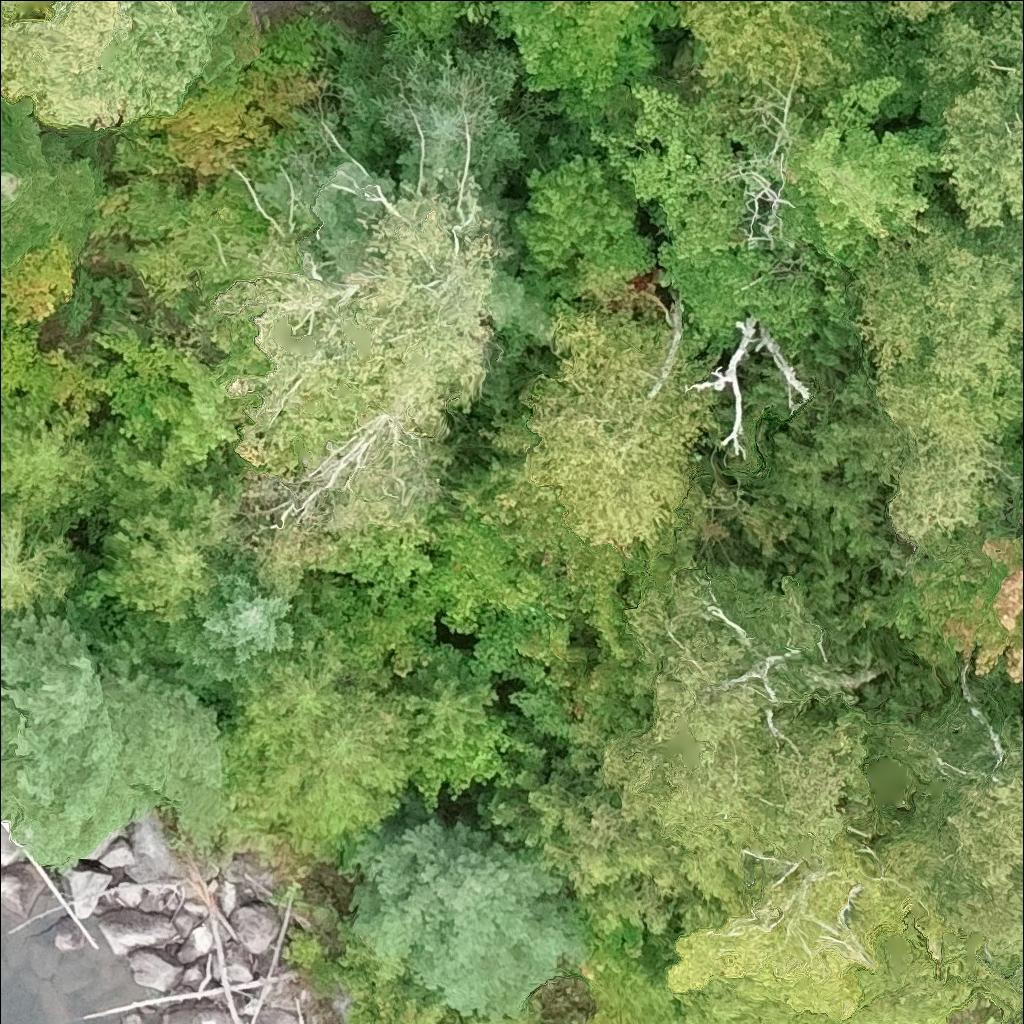crown: (214, 191, 497, 588), (594, 569, 875, 920), (556, 69, 859, 354), (667, 841, 995, 1023), (846, 208, 1023, 542), (0, 600, 225, 862), (340, 799, 587, 1023), (521, 297, 718, 561), (312, 509, 588, 692), (218, 619, 407, 865), (877, 687, 1023, 974), (779, 73, 947, 273), (90, 172, 303, 322), (332, 35, 557, 177), (371, 0, 680, 97), (0, 0, 213, 131), (76, 476, 258, 627), (871, 514, 1023, 681), (915, 3, 1023, 232), (87, 331, 263, 457), (285, 925, 496, 1023), (518, 155, 657, 300), (168, 554, 323, 683), (673, 0, 891, 89), (0, 95, 107, 266), (141, 75, 316, 178), (0, 405, 107, 532), (0, 505, 84, 632), (336, 920, 408, 1019), (885, 0, 969, 20), (505, 996, 542, 1023), (1015, 678, 1023, 692)
